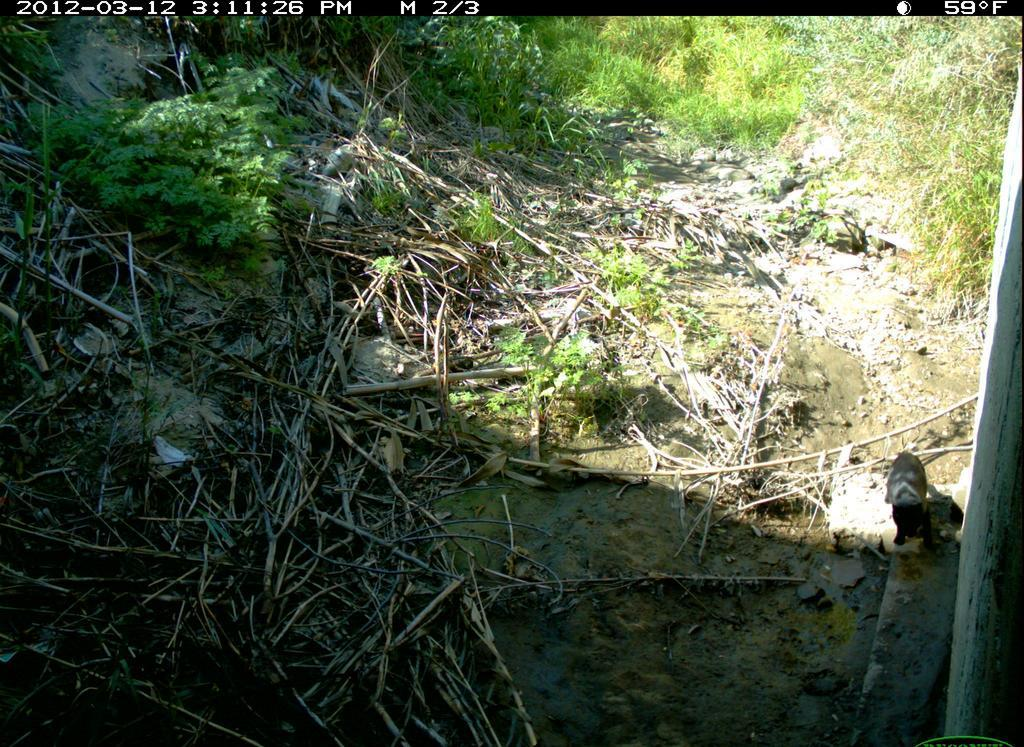cat: (845, 414, 945, 559)
